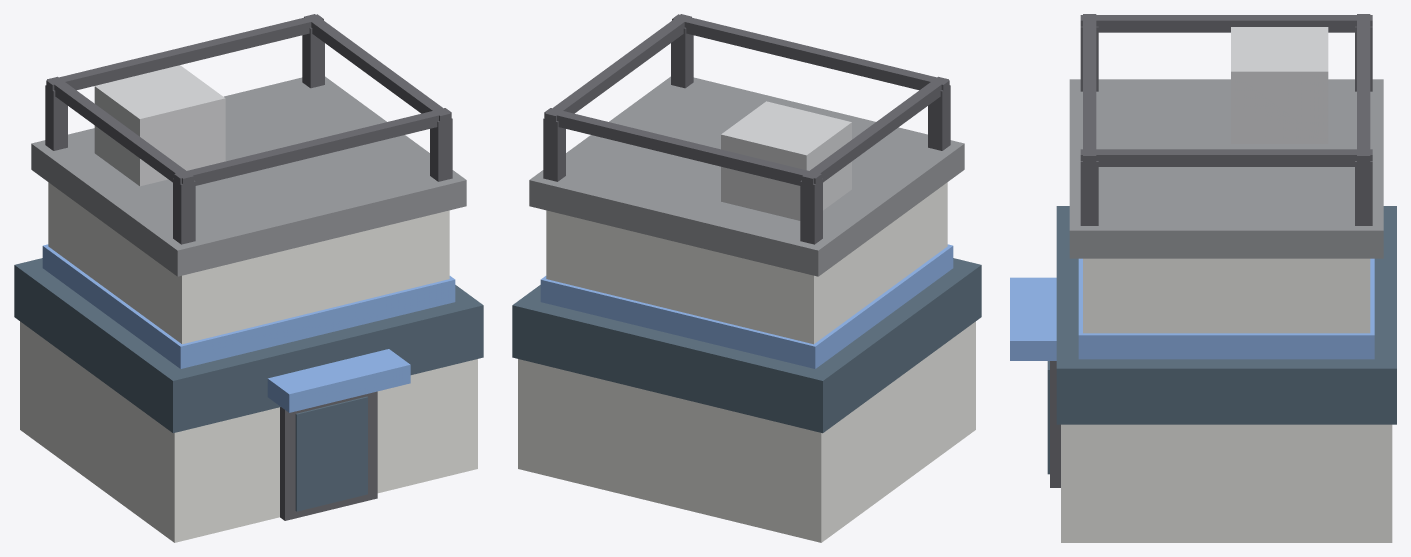
The model's file is office.glb.
The picture shows the model from 3 angles, left to right: view 1: azimuth 30°, elevation 25°; view 2: azimuth 150°, elevation 25°; view 3: azimuth 270°, elevation 25°; orthographic projection. The views are drawn at different scales.
Visible parts, largest first — view 1: office; view 2: office; view 3: office.
Boxes of the visible parts, x1,y1,x2,y2 form: office: (14,14,483,542); office: (512,14,981,542); office: (1010,14,1396,542).
Size of the model in its own units: 0.9346 by 1.02 by 0.94.
